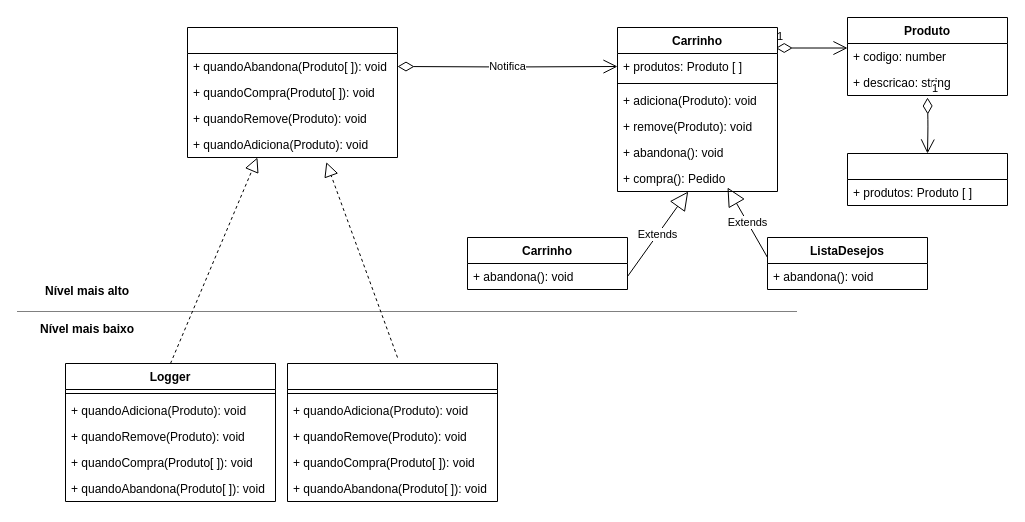
This 1025x522 diagram has some shape labels left out. The box of each missing label's shape, as (x1, y1, x2, y2) in pixels:
IObservador: (186, 26, 398, 158)
Marketing: (286, 362, 498, 502)
Pedido: (846, 152, 1008, 206)
